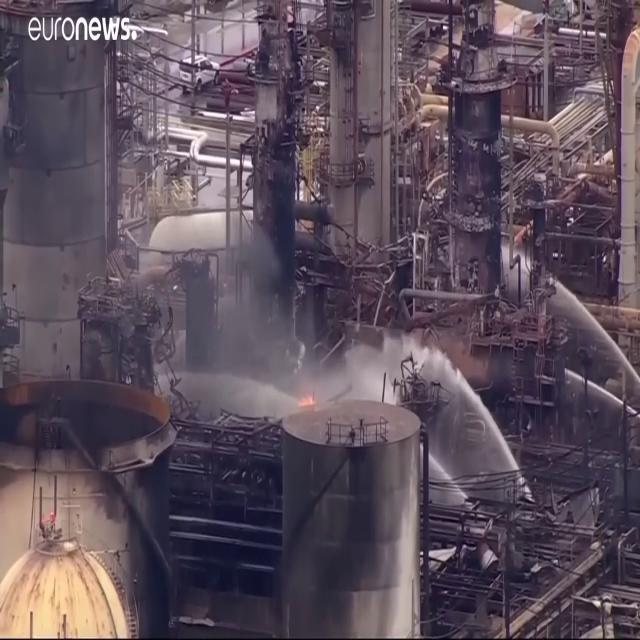Smoke: (180, 200, 388, 426), (5, 42, 97, 246)
